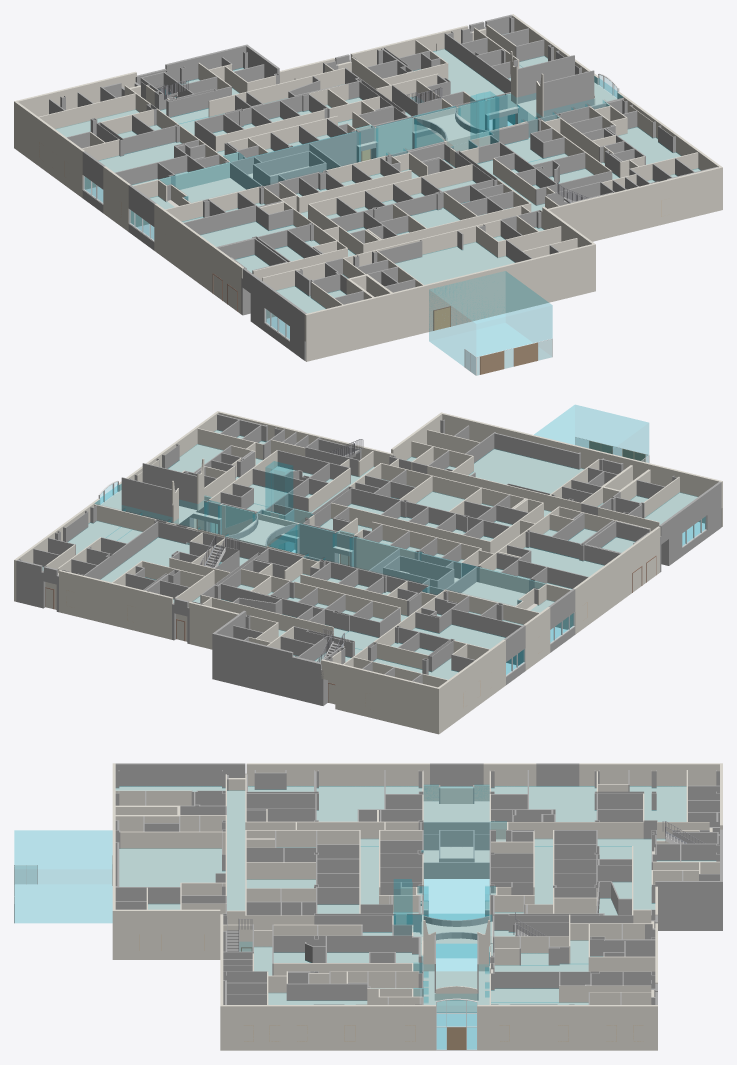
File: clinic-floor1-architectural.glb
3 views of the same model, one above another, from view 1: azimuth 30°, elevation 25°; view 2: azimuth 150°, elevation 25°; view 3: azimuth 270°, elevation 25° (orthographic). The views are drawn at different scales.
Visible parts, largest first — view 1: 3LbNSBzHHBSuzhUUvuwBdQ, 1NvbzFDrT8ePCfWUZHOCVS, 3LbNSBzHHBSuzhUUvuwBYQ, 3LbNSBzHHBSuzhUUvuwBG4, 0$T_kKFfj6eQu9LjJc1L4V, 0ztdC3L1HAzhbhMHypqcY9, 2_TmT90dD0x8tJSTjyTb4R, 0tIhQ6hmz02e5gznEed55U, 3Egy$LBd99weR14rW4bmzE, 0ztdC3L1HAzhbhMHypqbH5, 2j55VthSj3Lu0J6fyrpHf8, 3LbNSBzHHBSuzhUUvuwFhT (+61 smaller); view 2: 3LbNSBzHHBSuzhUUvuwBEp, 3LbNSBzHHBSuzhUUvuwB0x, 3LbNSBzHHBSuzhUUvuwBG4, 1NvbzFDrT8ePCfWUZHOCVS, 3LbNSBzHHBSuzhUUvuwB4_, 3LbNSBzHHBSuzhUUvuwBdQ, 0$T_kKFfj6eQu9LjJc1L4V, 2_TmT90dD0x8tJSTjyTb4R, 3Egy$LBd99weR14rW4bmWa, 3NhaIUfh12PAdrGa$S3z6Y, 3Egy$LBd99weR14rW4bmzE, 3Egy$LBd99weR14rW4brn5 (+69 smaller); view 3: 0otfaO0qPDAhynjJ6DnL_y, 1NvbzFDrT8ePCfWUZHOCVS, 3LbNSBzHHBSuzhUUvuwBiP, 3LbNSBzHHBSuzhUUvuwBWM, 3LbNSBzHHBSuzhUUvuwBG4, 0ztdC3L1HAzhbhMHypqcY9, 2_TmT90dD0x8tJSTjyTb4R, 2_TmT90dD0x8tJSTjyTbAx, 3LbNSBzHHBSuzhUUvuwBLq, 0$T_kKFfj6eQu9LjJc1L4V, 0ztdC3L1HAzhbhMHypqbH5, 2_TmT90dD0x8tJSTjyTc$e (+98 smaller).
Part boxes in pixels (x1,y1,x2,y2): 3LbNSBzHHBSuzhUUvuwBdQ: (304,244,593,361); 1NvbzFDrT8ePCfWUZHOCVS: (429,271,552,374); 3LbNSBzHHBSuzhUUvuwBYQ: (541,167,720,241); 3LbNSBzHHBSuzhUUvuwBG4: (154,203,243,313); 0$T_kKFfj6eQu9LjJc1L4V: (14,101,84,197); 0ztdC3L1HAzhbhMHypqcY9: (159,118,443,200); 2_TmT90dD0x8tJSTjyTb4R: (395,242,514,284); 0tIhQ6hmz02e5gznEed55U: (374,100,485,157); 3Egy$LBd99weR14rW4bmzE: (309,164,472,216); 0ztdC3L1HAzhbhMHypqbH5: (413,76,622,148); 2j55VthSj3Lu0J6fyrpHf8: (539,70,594,116); 3LbNSBzHHBSuzhUUvuwFhT: (208,68,344,117); 3LbNSBzHHBSuzhUUvuwBEp: (59,570,173,639); 3LbNSBzHHBSuzhUUvuwB0x: (335,662,437,733); 3LbNSBzHHBSuzhUUvuwBG4: (573,526,660,634); 1NvbzFDrT8ePCfWUZHOCVS: (534,405,648,462); 3LbNSBzHHBSuzhUUvuwB4_: (214,633,293,698); 3LbNSBzHHBSuzhUUvuwBdQ: (442,413,722,526); 0$T_kKFfj6eQu9LjJc1L4V: (436,639,505,734); 2_TmT90dD0x8tJSTjyTb4R: (469,449,583,493); 3Egy$LBd99weR14rW4bmWa: (380,463,543,517); 3NhaIUfh12PAdrGa$S3z6Y: (121,477,175,522); 3Egy$LBd99weR14rW4bmzE: (331,503,489,552); 3Egy$LBd99weR14rW4brn5: (427,465,581,511); 0otfaO0qPDAhynjJ6DnL_y: (220,1005,435,1050); 1NvbzFDrT8ePCfWUZHOCVS: (14,830,112,922); 3LbNSBzHHBSuzhUUvuwBiP: (477,1005,657,1050); 3LbNSBzHHBSuzhUUvuwBWM: (112,909,220,959); 3LbNSBzHHBSuzhUUvuwBG4: (246,763,429,786); 0ztdC3L1HAzhbhMHypqcY9: (418,785,506,957); 2_TmT90dD0x8tJSTjyTb4R: (119,849,225,886); 2_TmT90dD0x8tJSTjyTbAx: (534,839,695,909); 3LbNSBzHHBSuzhUUvuwBLq: (655,881,722,930); 0$T_kKFfj6eQu9LjJc1L4V: (579,763,722,786); 0ztdC3L1HAzhbhMHypqbH5: (394,914,491,1048); 2_TmT90dD0x8tJSTjyTc$e: (227,791,245,910).
Bounding box in the file's own units: 52.69 × 10.25 × 66.1.
